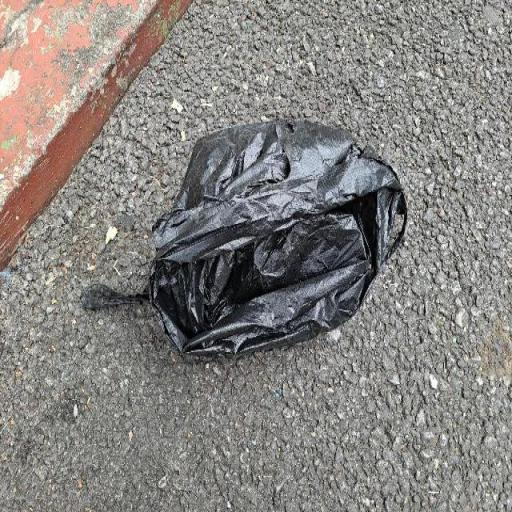plastic-bag: (80, 113, 410, 364)
